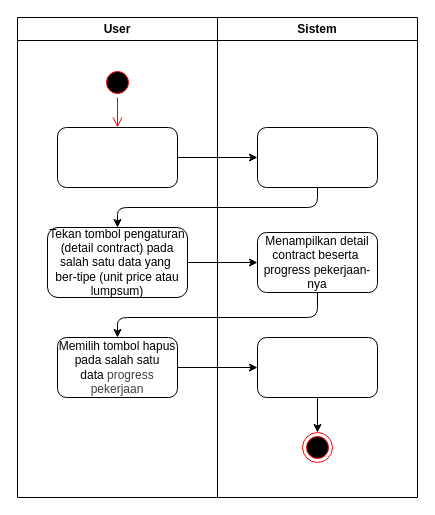
Some shapes in this 435 by 515 pixel diagram are drawn without their labels. The shapes that lost their labels are listed below. From the top down, each one's centre as x and y in pixels, then its label:
(117,157): Membuka halaman Contract
(317,157): Menampilkan halaman Contract
(317,367): Menyimpan perubahan data progress pekerjaan
